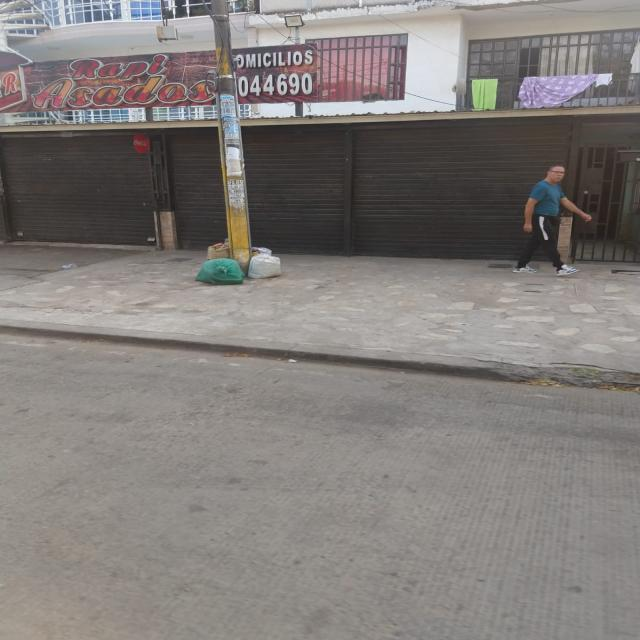Garbage_Bag: (194, 257, 245, 285), (248, 253, 282, 279), (206, 240, 230, 263)
